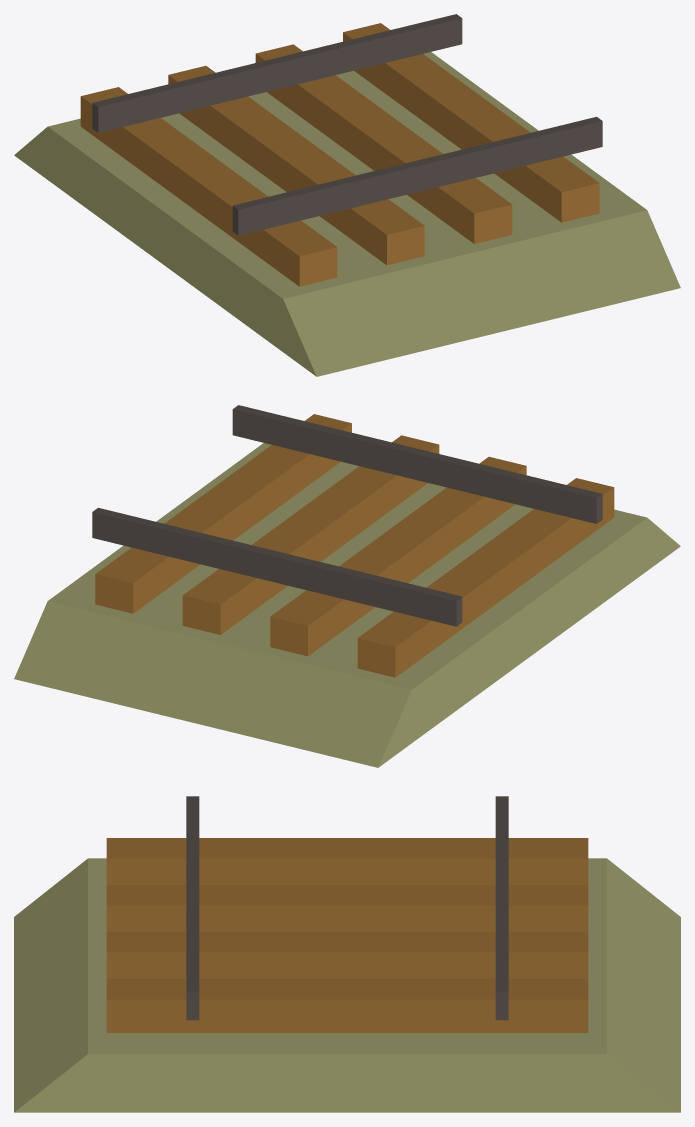
File: SM_Via_Recta2_v1_Madera_LOD0.fbx
The picture shows the model from 3 angles, top to bottom: view 1: azimuth 30°, elevation 25°; view 2: azimuth 150°, elevation 25°; view 3: azimuth 270°, elevation 25°; orthographic projection. The views are drawn at different scales.
Visible parts, largest first — view 1: SM_via_trazado_v6_LOD0; view 2: SM_via_trazado_v6_LOD0; view 3: SM_via_trazado_v6_LOD0.
Part boxes in pixels (left/top/right/bottom): SM_via_trazado_v6_LOD0: left=14, top=14, right=680, bottom=376; SM_via_trazado_v6_LOD0: left=14, top=405, right=680, bottom=767; SM_via_trazado_v6_LOD0: left=14, top=796, right=680, bottom=1112.
Bounding box in the file's own units: 2.5 × 0.72 × 3.6.
